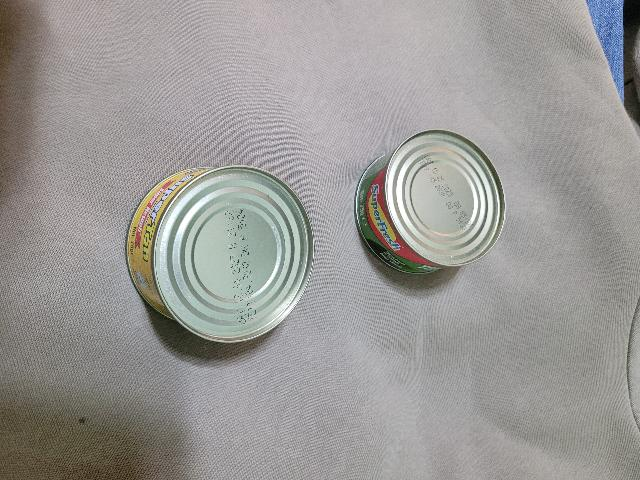Metal: (126, 162, 315, 346), (354, 128, 506, 279)
